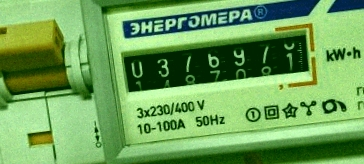0: (127, 56, 146, 79)
1: (283, 50, 297, 72)
3: (154, 55, 171, 79)
6: (205, 46, 221, 68)
7: (179, 48, 195, 74), (256, 40, 272, 65)
9: (230, 44, 246, 67)
screen: (113, 19, 323, 113)
